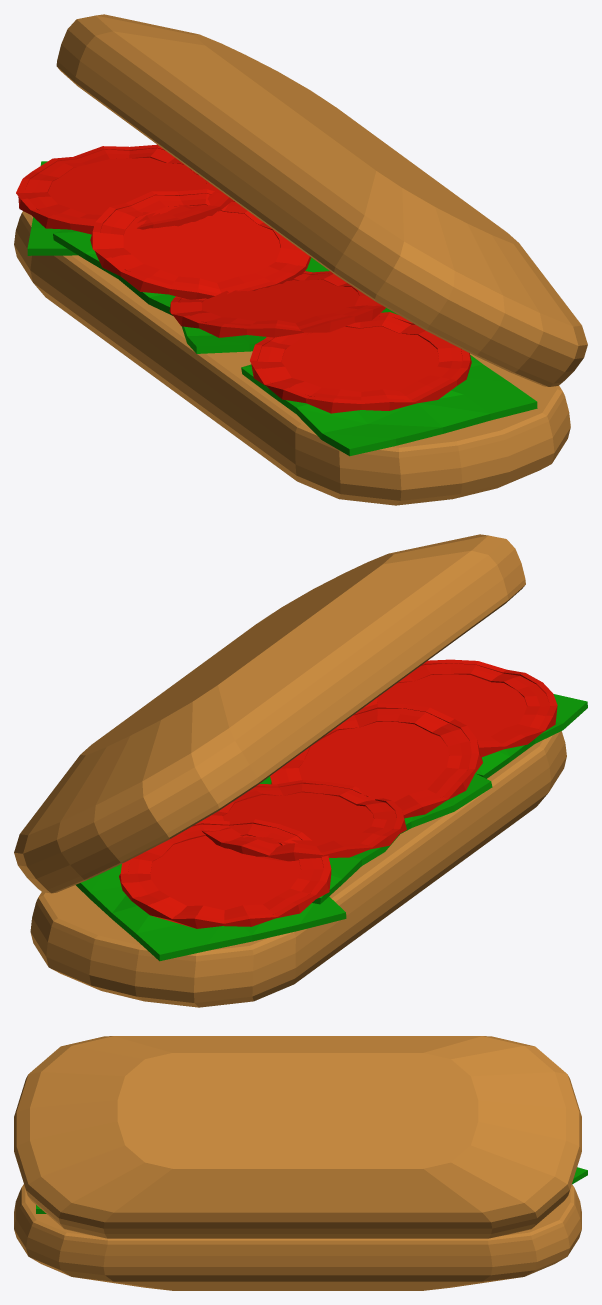
Rendered from Sub Sandwich.fbx.
3 views of the same model, one above another, from view 1: azimuth 30°, elevation 25°; view 2: azimuth 150°, elevation 25°; view 3: azimuth 270°, elevation 25° (orthographic). The views are drawn at different scales.
Visible parts, largest first — view 1: Sub Sandwich, Sub Sandwich.001, Tomato.002, Tomato, Tomato.003, Lettece.001, Tomato.001, Lettece.003, Lettece.002, Lettece; view 2: Sub Sandwich, Sub Sandwich.001, Tomato.003, Tomato.001, Tomato.002, Tomato, Lettece, Lettece.001, Lettece.002, Lettece.003; view 3: Sub Sandwich, Sub Sandwich.001.
Boxes of the visible parts, box(x1,y1,x2,y2) form: Sub Sandwich: box(56, 14, 587, 386); Sub Sandwich.001: box(14, 211, 570, 505); Tomato.002: box(90, 189, 311, 299); Tomato: box(250, 312, 471, 413); Tomato.003: box(16, 144, 232, 234); Lettece.001: box(241, 355, 537, 456); Tomato.001: box(169, 271, 385, 337); Lettece.003: box(53, 229, 329, 315); Lettece.002: box(182, 308, 397, 353); Lettece: box(27, 161, 77, 255); Sub Sandwich: box(14, 534, 525, 893); Sub Sandwich.001: box(30, 731, 566, 1007); Tomato.003: box(119, 819, 331, 928); Tomato.001: box(270, 703, 482, 818); Tomato.002: box(202, 780, 406, 861); Tomato: box(364, 659, 557, 756); Lettece: box(76, 864, 346, 961); Lettece.001: box(475, 694, 587, 778); Lettece.002: box(260, 773, 492, 833); Lettece.003: box(312, 833, 400, 904); Sub Sandwich: box(14, 1036, 581, 1238); Sub Sandwich.001: box(14, 1184, 581, 1290).
Bounding box in the file's own units: 718 × 644 × 1604.
